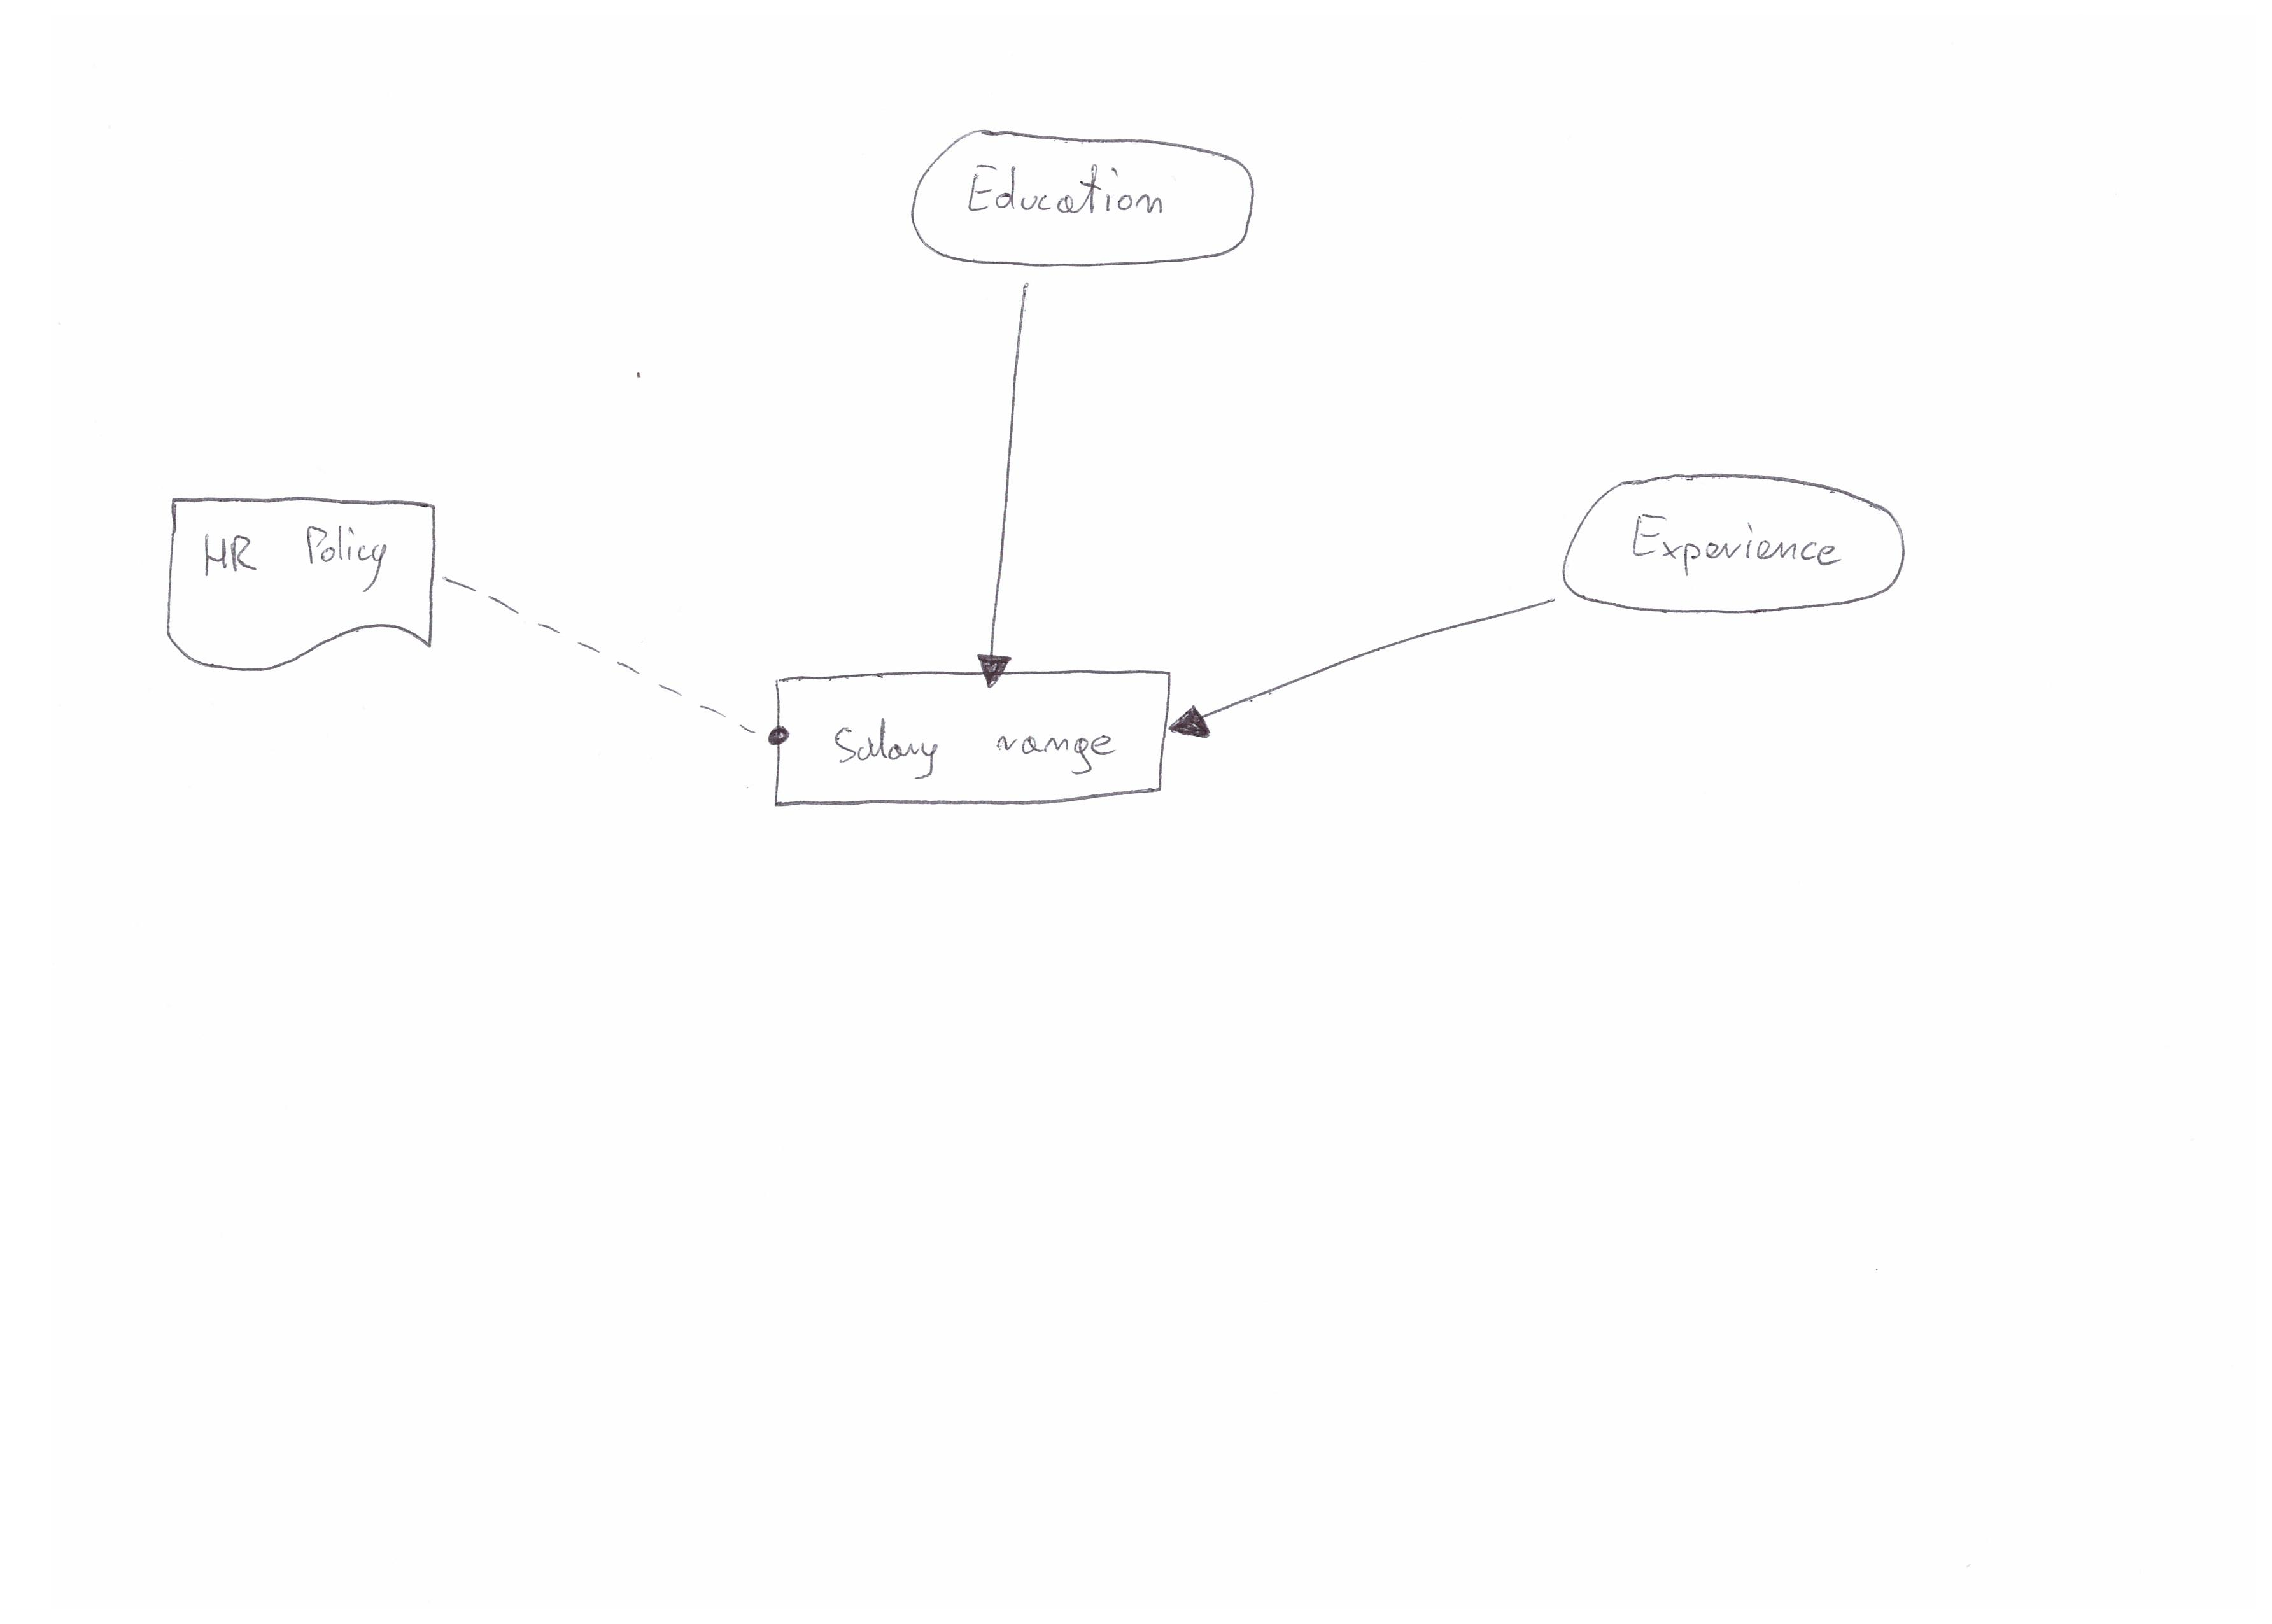arrow_authority_requirement: (438, 568, 791, 759)
arrow_information_requirement: (1169, 580, 1562, 756), (963, 271, 1051, 689)
node_decision: (768, 668, 1170, 816)
node_input_data: (896, 112, 1281, 269), (1562, 464, 1919, 619)
node_knowledge_source: (158, 487, 446, 684)
text: (817, 698, 1132, 782), (1615, 506, 1852, 589), (961, 153, 1181, 237), (188, 515, 399, 598)
